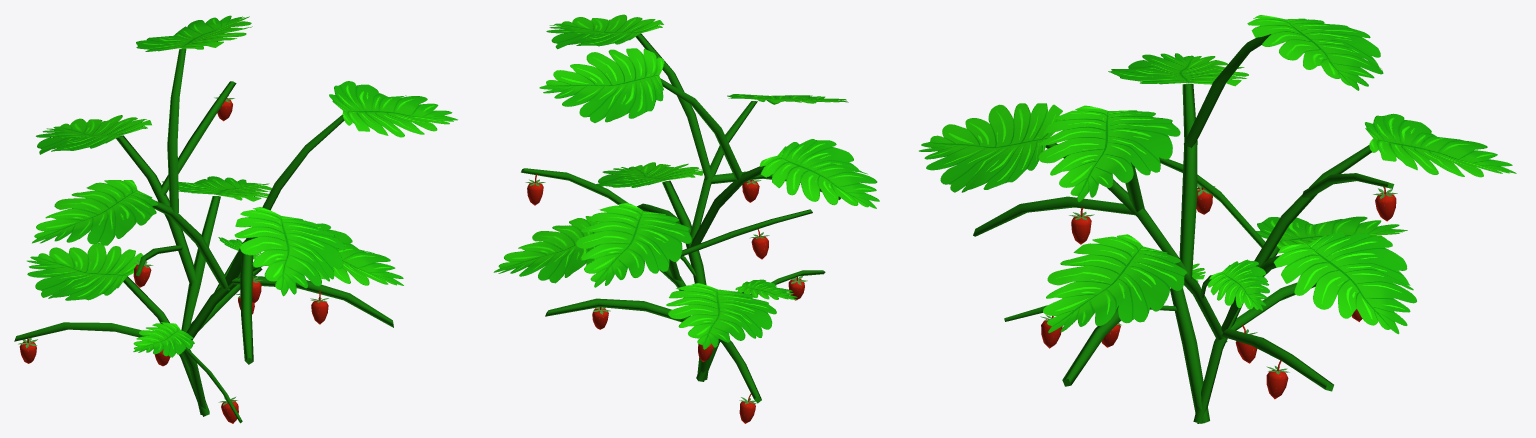
File: Strawberries Stage 1.fbx
3 renders of one model, left to right at view 1: azimuth 30°, elevation 25°; view 2: azimuth 150°, elevation 25°; view 3: azimuth 270°, elevation 25°, orthographic. The views are drawn at different scales.
Visible parts, largest first — view 1: polySurface109, polySurface110, polySurface104, polySurface117, polySurface111, polySurface116, polySurface106, polySurface107, polySurface105, polySurface126, polySurface128, polySurface127 (+1 smaller); view 2: polySurface116, polySurface111, polySurface110, polySurface104, polySurface117, polySurface107, polySurface106, polySurface109, polySurface124, polySurface105, polySurface125, polySurface123 (+1 smaller); view 3: polySurface106, polySurface107, polySurface117, polySurface109, polySurface116, polySurface111, polySurface110, polySurface104, polySurface112, polySurface105, polySurface126, polySurface124 (+5 smaller).
Part boxes in pixels (x1,y1,x2,y2): polySurface109: [225, 207, 345, 296]; polySurface110: [32, 180, 229, 290]; polySurface104: [27, 243, 209, 416]; polySurface117: [246, 81, 457, 238]; polySurface111: [36, 115, 197, 285]; polySurface116: [136, 15, 252, 213]; polySurface106: [186, 223, 403, 340]; polySurface107: [162, 176, 277, 332]; polySurface105: [133, 322, 206, 414]; polySurface126: [240, 252, 253, 364]; polySurface128: [232, 276, 393, 327]; polySurface127: [14, 322, 146, 341]; polySurface116: [539, 48, 742, 179]; polySurface111: [576, 202, 691, 287]; polySurface110: [690, 139, 879, 246]; polySurface104: [666, 283, 776, 380]; polySurface117: [546, 14, 711, 179]; polySurface107: [493, 216, 686, 297]; polySurface106: [596, 162, 706, 284]; polySurface109: [689, 94, 848, 244]; polySurface124: [545, 298, 690, 322]; polySurface105: [696, 279, 797, 381]; polySurface125: [680, 209, 812, 256]; polySurface123: [521, 168, 627, 204]; polySurface106: [1043, 234, 1227, 342]; polySurface107: [1221, 232, 1416, 334]; polySurface117: [1038, 105, 1180, 211]; polySurface109: [919, 103, 1189, 275]; polySurface116: [1184, 15, 1383, 147]; polySurface111: [1254, 113, 1516, 266]; polySurface110: [1108, 53, 1248, 278]; polySurface104: [1193, 216, 1407, 423]; polySurface112: [1200, 259, 1269, 310]; polySurface105: [1170, 263, 1209, 423]; polySurface126: [973, 196, 1138, 236]; polySurface124: [1221, 329, 1333, 391].
Bounding box in the file's own units: 0.2949 × 0.2545 × 0.3325.
Materials: 3 (3 with a texture image).
